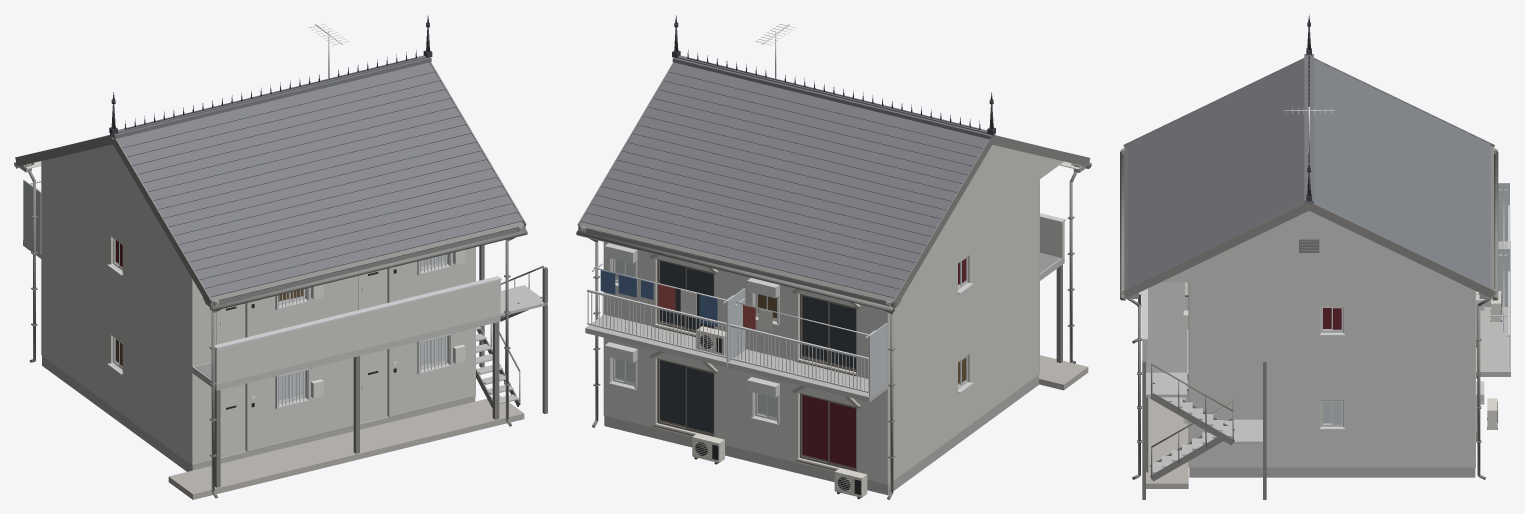
File: blk_outer1_0_7.glb
3 renders of one model, left to right at view 1: azimuth 30°, elevation 25°; view 2: azimuth 150°, elevation 25°; view 3: azimuth 270°, elevation 25°, orthographic. The views are drawn at different scales.
Visible parts, largest first — view 1: blk_outer1_0_7; view 2: blk_outer1_0_7; view 3: blk_outer1_0_7.
Boxes of the visible parts, bbox=[...] form: blk_outer1_0_7: bbox=[14, 15, 547, 499]; blk_outer1_0_7: bbox=[576, 15, 1091, 499]; blk_outer1_0_7: bbox=[1120, 14, 1510, 499].
Size of the model in its own units: 10.53 by 9.89 by 10.55.
